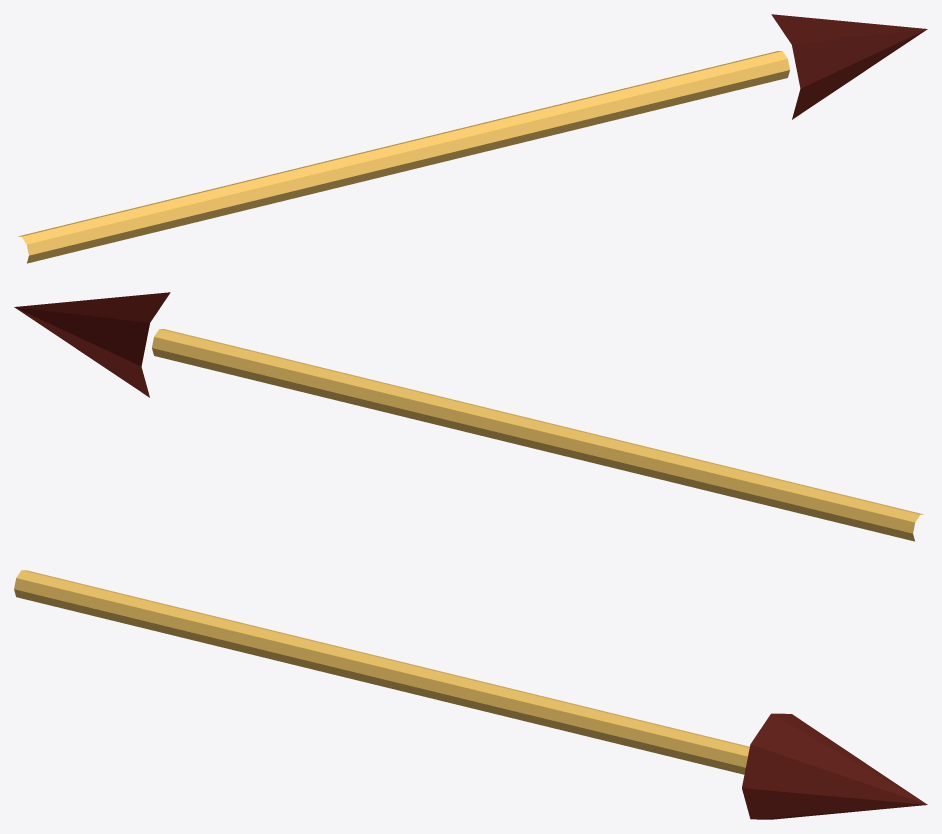
The model's file is huskar.glb.
3 renders of one model, top to bottom at view 1: azimuth 30°, elevation 25°; view 2: azimuth 150°, elevation 25°; view 3: azimuth 330°, elevation 25°, orthographic.
Visible parts, largest first — view 1: huskar-shaft, huskar-tip; view 2: huskar-shaft, huskar-tip; view 3: huskar-shaft, huskar-tip.
Part boxes in pixels (x1,y1,x2,y2): huskar-shaft: (18, 51, 789, 263); huskar-tip: (771, 14, 927, 119); huskar-shaft: (152, 329, 923, 541); huskar-tip: (14, 292, 170, 397); huskar-shaft: (14, 570, 749, 774); huskar-tip: (742, 713, 927, 819).
Bounding box in the file's own units: 1.97 × 0.22 × 0.22.
